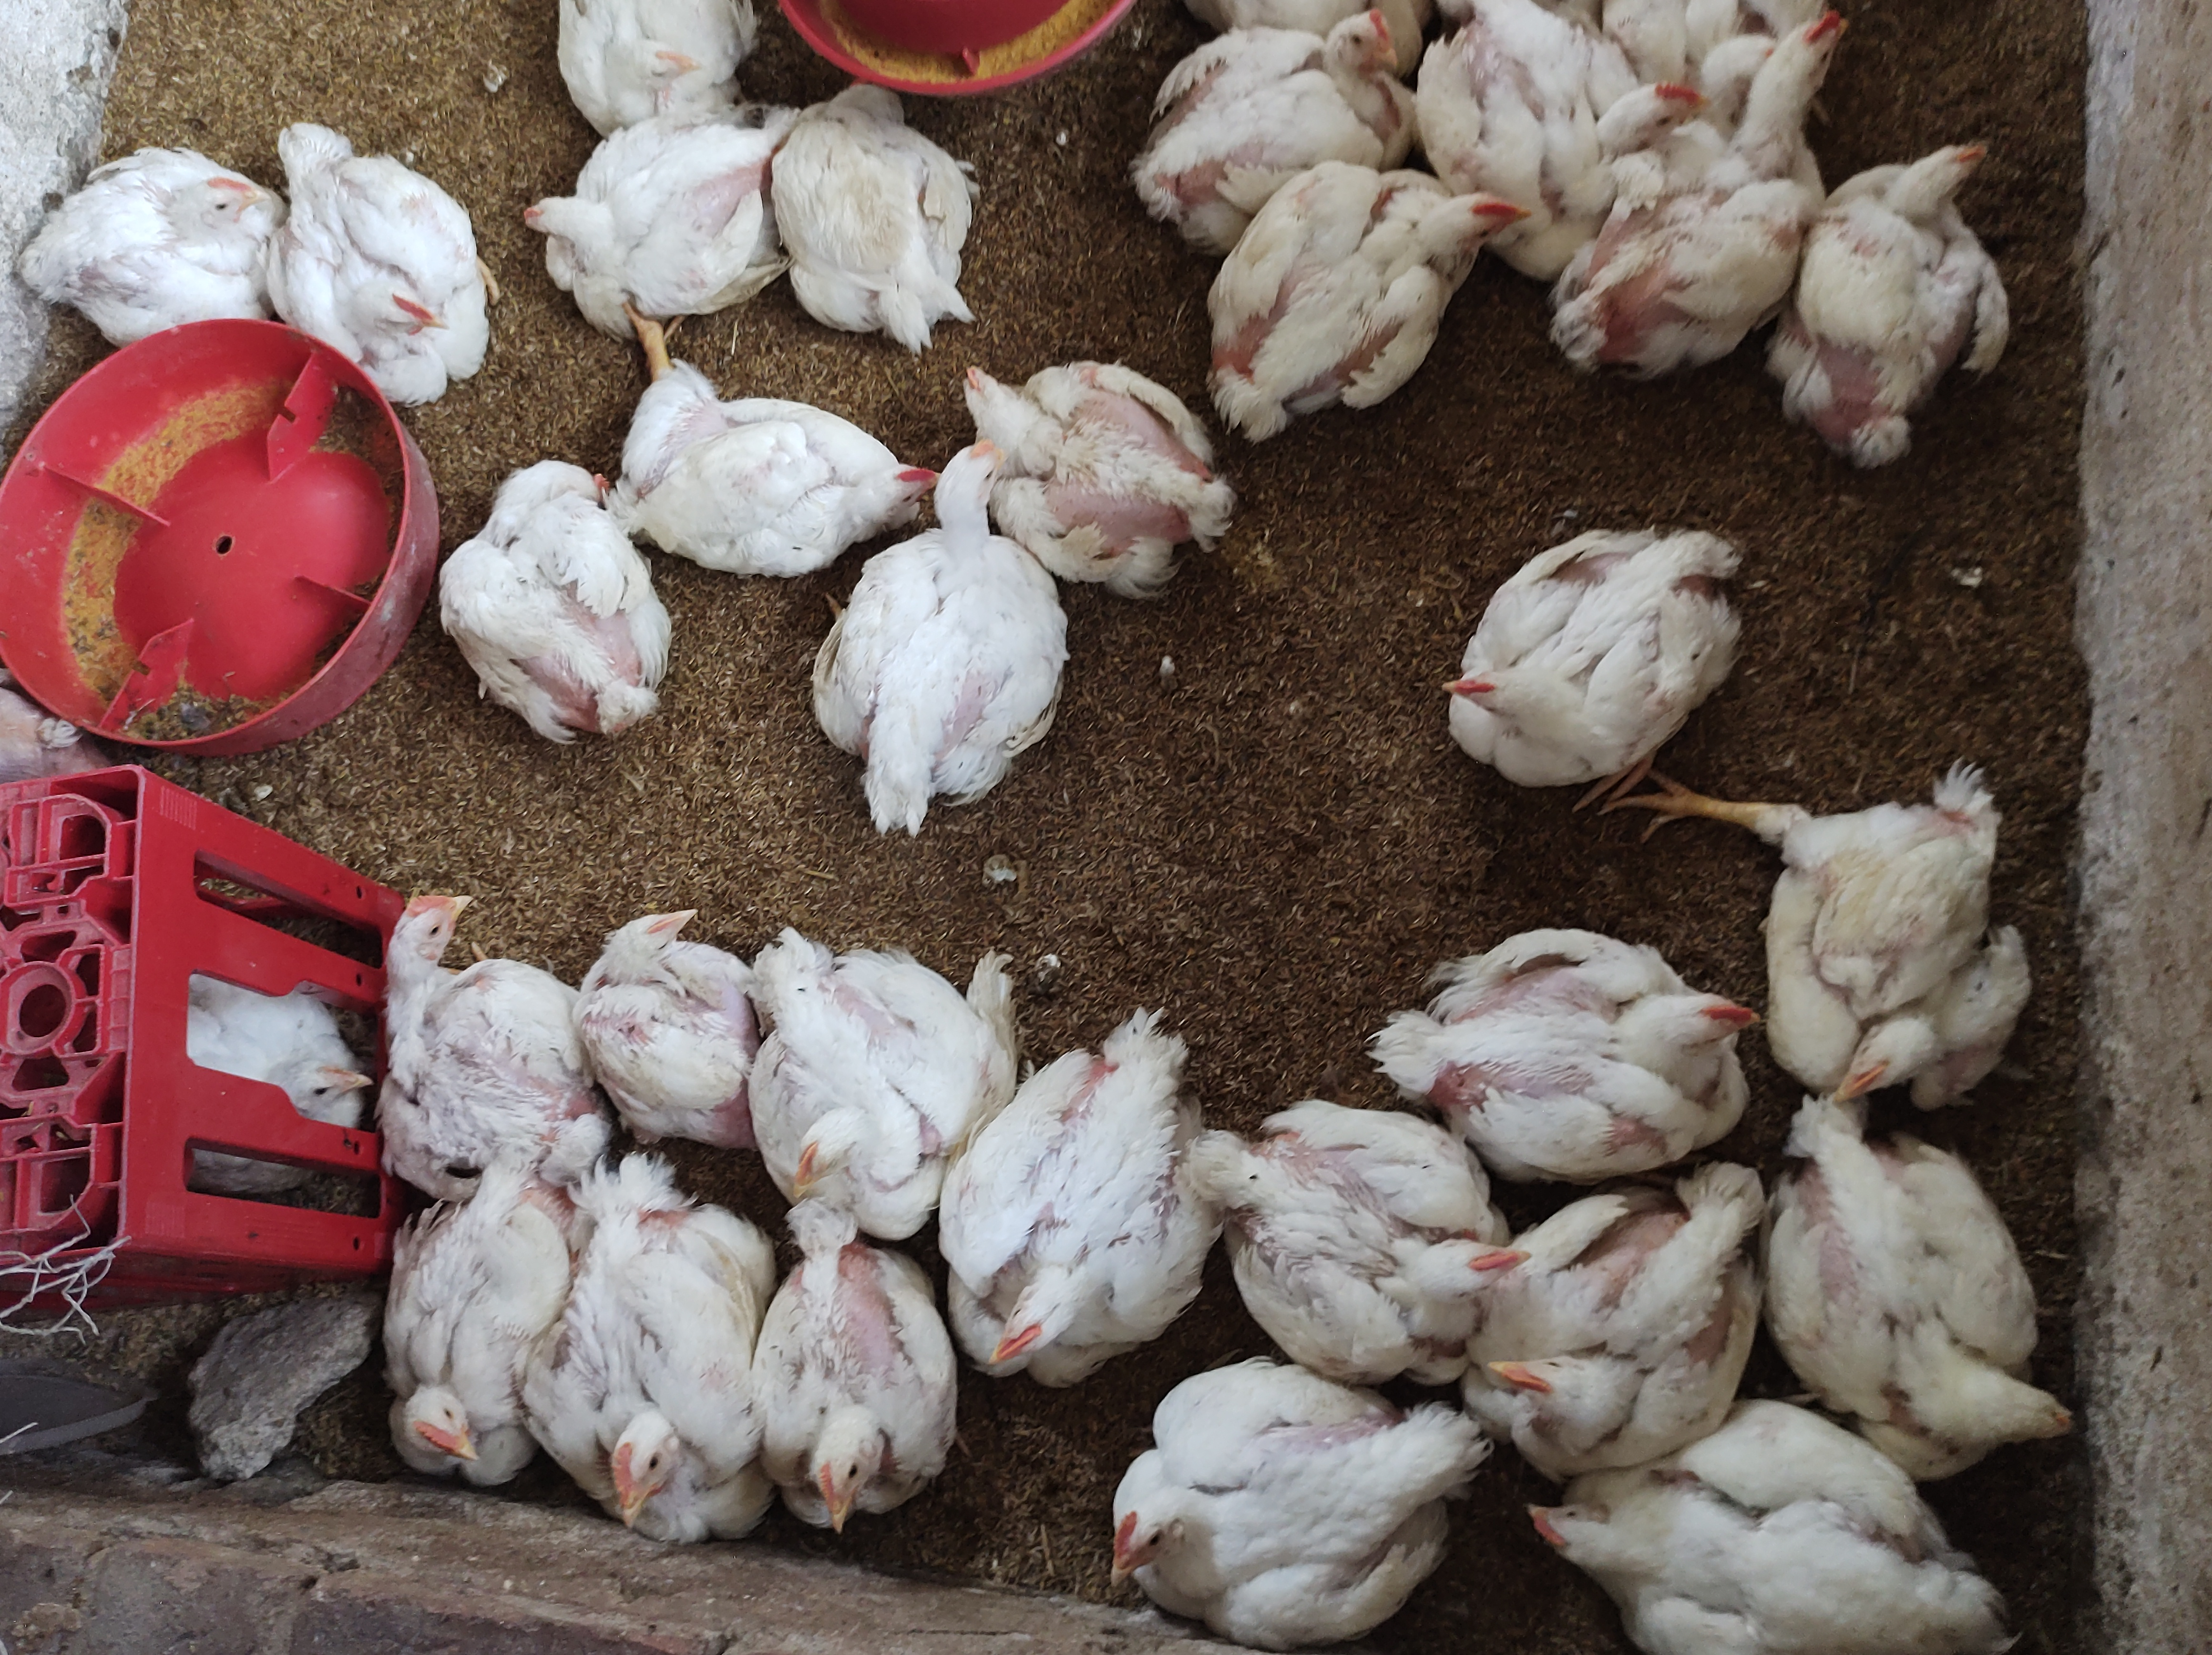Pollos: (1502, 1422, 2050, 1655), (1056, 1354, 1497, 1641), (1767, 1118, 2115, 1481), (929, 1008, 1259, 1387), (736, 888, 1045, 1255), (1382, 881, 1777, 1165), (718, 1208, 1000, 1565), (838, 443, 1096, 827), (1581, 26, 1880, 348), (1179, 163, 1520, 443), (1440, 523, 1763, 794), (551, 1144, 765, 1545), (0, 66, 278, 353), (1767, 838, 2050, 1111), (1824, 134, 2047, 464), (1490, 1147, 1713, 1478), (609, 337, 929, 567), (939, 348, 1233, 591), (431, 431, 642, 748), (282, 120, 503, 421), (388, 888, 609, 1175), (384, 1158, 558, 1514), (584, 881, 786, 1184), (522, 134, 829, 327), (1153, 0, 1396, 243), (783, 76, 996, 341), (1454, 0, 1741, 196), (165, 944, 384, 1154), (511, 3, 779, 134)
